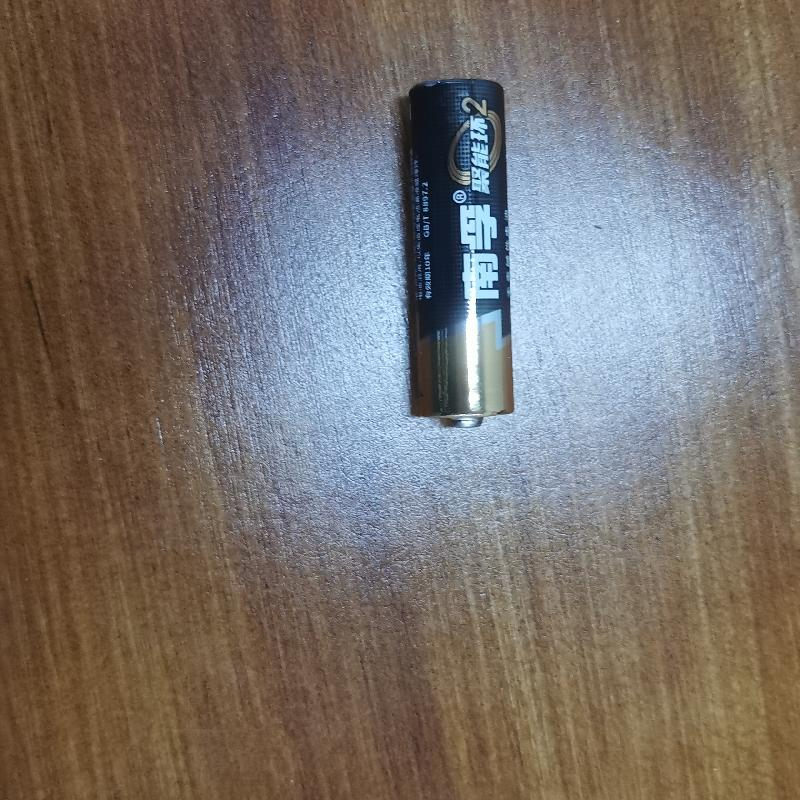battery: (386, 76, 526, 437)
